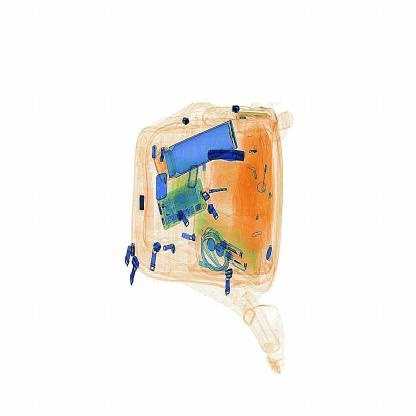knife: (202, 139, 255, 175)
